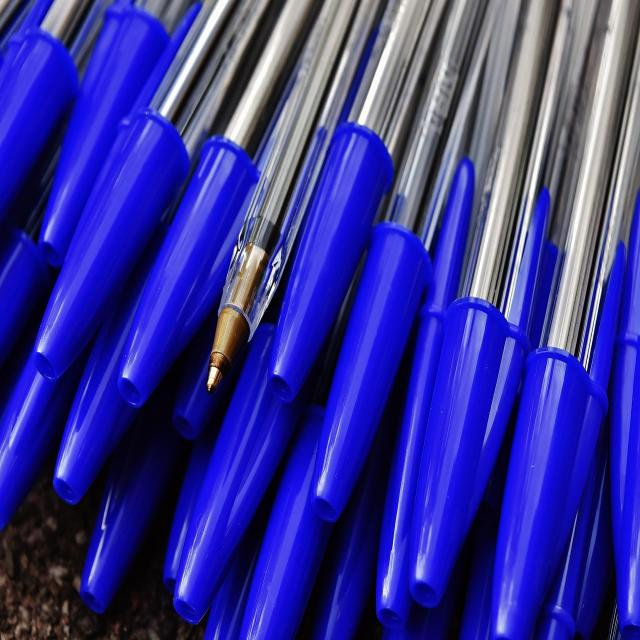pen: (415, 0, 606, 624), (32, 0, 296, 393), (205, 0, 391, 424)
